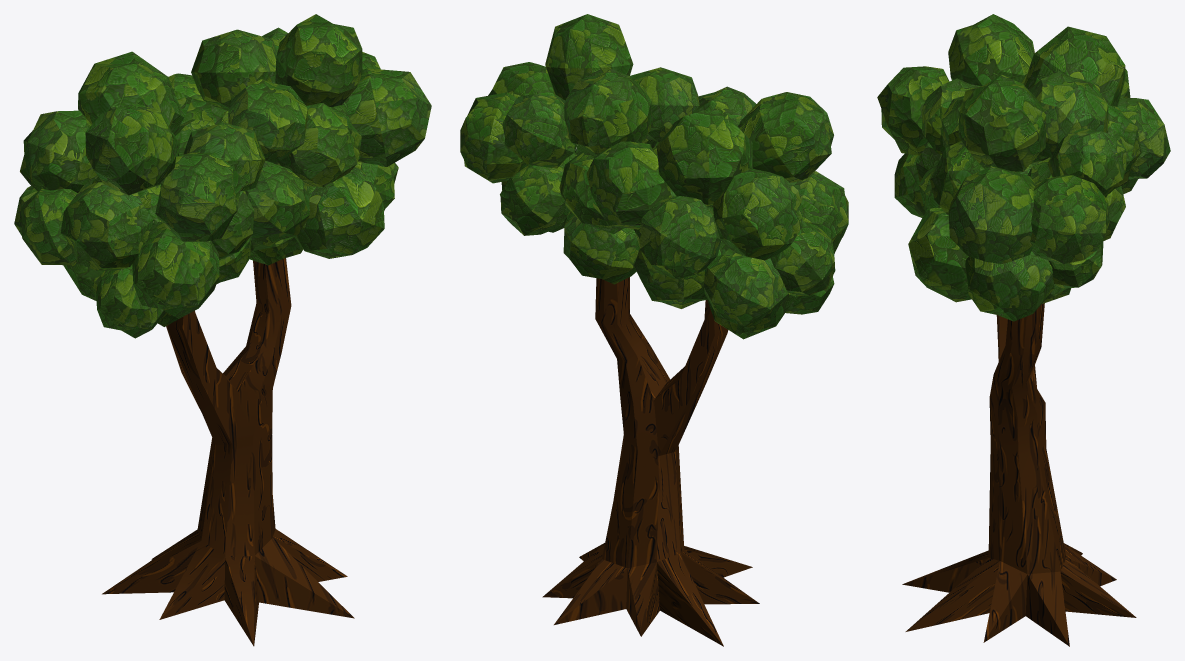
Rendered from OptimisedTree1.fbx.
The picture shows the model from 3 angles, left to right: view 1: azimuth 30°, elevation 25°; view 2: azimuth 150°, elevation 25°; view 3: azimuth 270°, elevation 25°; orthographic projection.
Visible parts, largest first — view 1: OptimisedTree1; view 2: OptimisedTree1; view 3: OptimisedTree1.
Boxes of the visible parts, x1=… form: OptimisedTree1: x1=14, y1=14, x2=431, y2=646; OptimisedTree1: x1=460, y1=14, x2=848, y2=646; OptimisedTree1: x1=877, y1=14, x2=1170, y2=646.
Size of the model in its own units: 5.35 by 7.7 by 3.67.
Materials: 1 (1 with a texture image).
